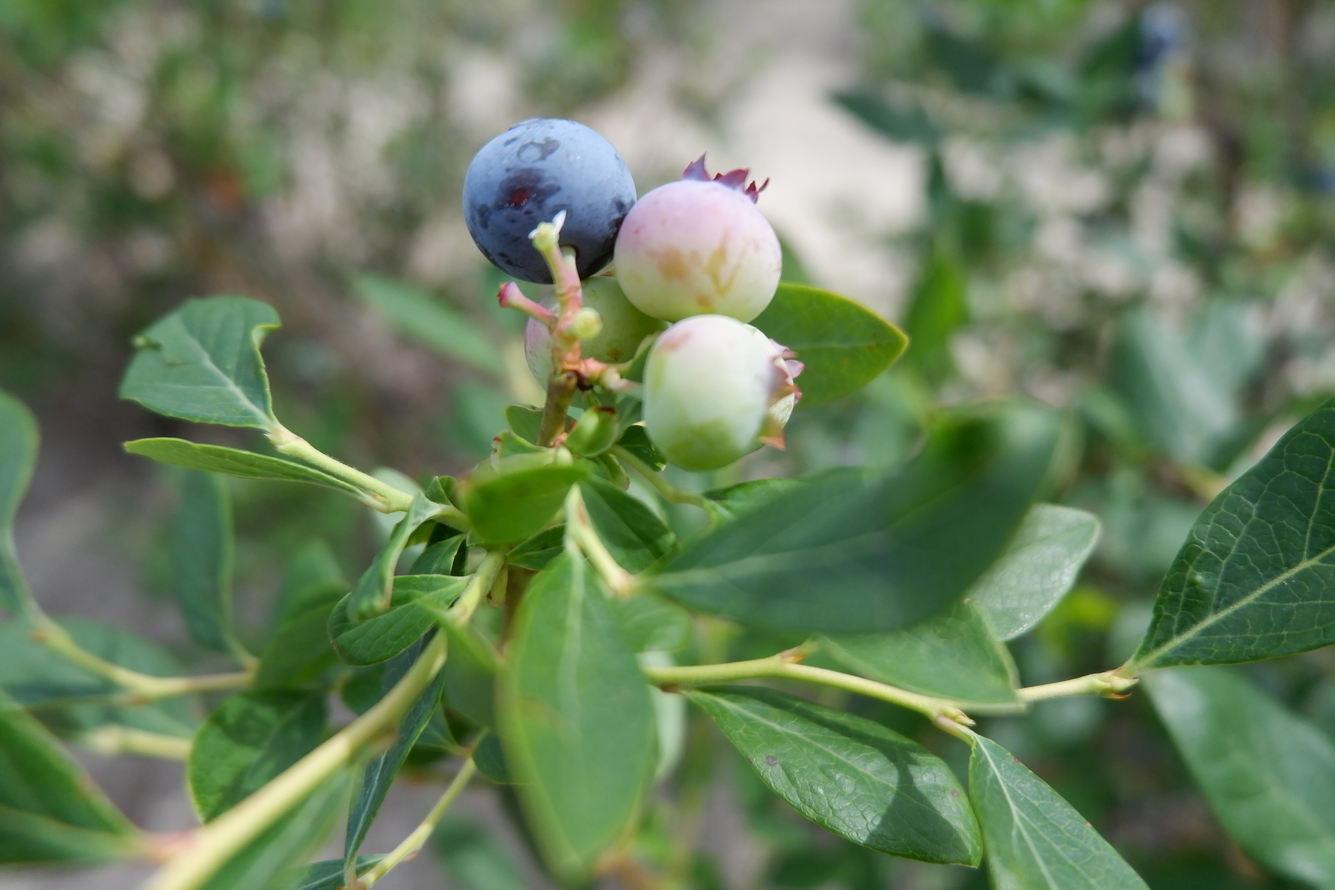Immature: (647, 316, 797, 469), (617, 179, 778, 316), (524, 276, 673, 412)
Mature: (462, 122, 632, 280)
